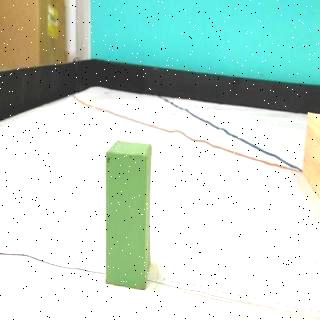greenbox: (104, 140, 153, 292)
